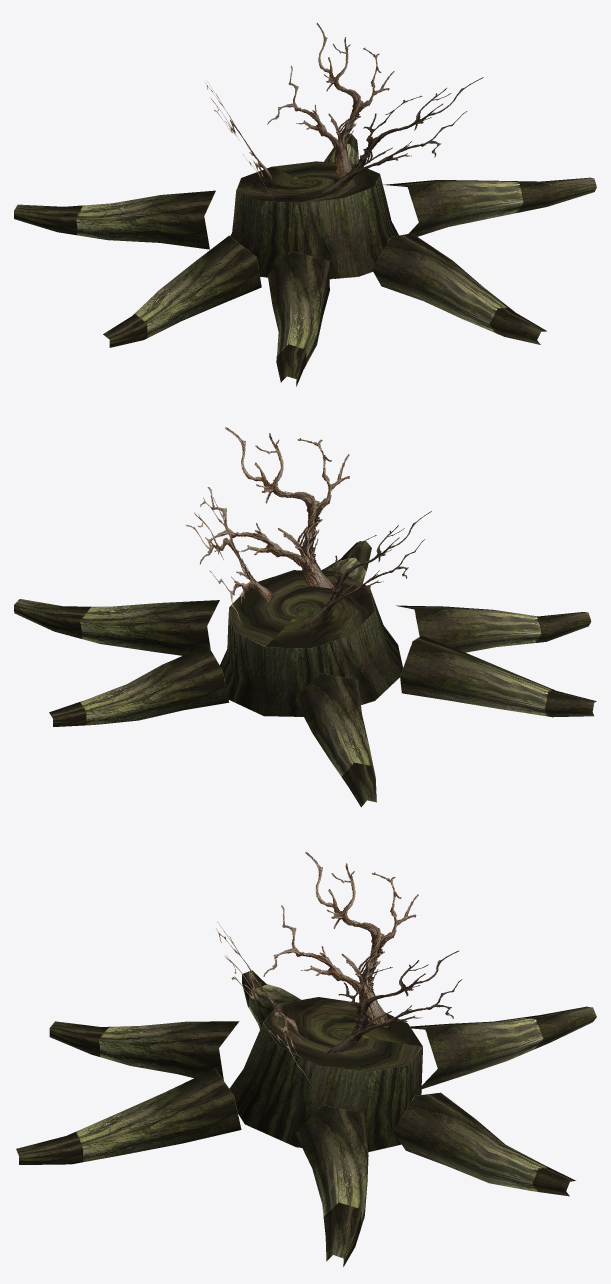
Rendered from deadwood_b_lod0.glb.
3 renders of one model, top to bottom at view 1: azimuth 30°, elevation 25°; view 2: azimuth 150°, elevation 25°; view 3: azimuth 270°, elevation 25°, orthographic. The views are drawn at different scales.
Visible parts, largest first — view 1: deadwood_b_lod0; view 2: deadwood_b_lod0; view 3: deadwood_b_lod0.
Part boxes in pixels (left/top/right/bottom): deadwood_b_lod0: left=14, top=22, right=596, bottom=386; deadwood_b_lod0: left=14, top=427, right=596, bottom=807; deadwood_b_lod0: left=16, top=851, right=596, bottom=1266.
Size of the model in its own units: 8.49 by 3.08 by 7.32.
2 materials, 2 textured.
